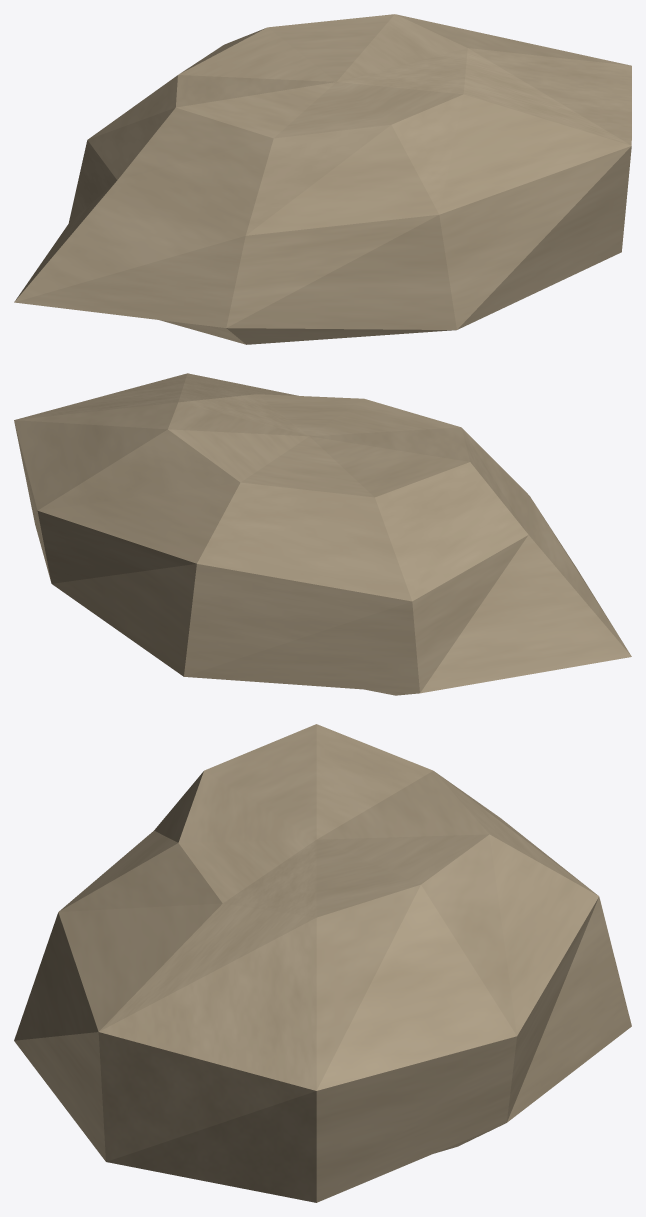
File: SM_CN_Caliche_A_LOD1.glb
3 views of the same model, one above another, from view 1: azimuth 30°, elevation 25°; view 2: azimuth 150°, elevation 25°; view 3: azimuth 270°, elevation 25° (orthographic). The views are drawn at different scales.
Parts seen in each view (by area): view 1: SM_CN_Caliche_A_LOD1; view 2: SM_CN_Caliche_A_LOD1; view 3: SM_CN_Caliche_A_LOD1.
Boxes of the visible parts, bbox=[...] form: SM_CN_Caliche_A_LOD1: bbox=[14, 14, 631, 344]; SM_CN_Caliche_A_LOD1: bbox=[14, 373, 631, 695]; SM_CN_Caliche_A_LOD1: bbox=[14, 724, 631, 1202].
Size of the model in its own units: 0.64 by 0.19 by 0.4411.
Materials: 1 (1 with a texture image).
